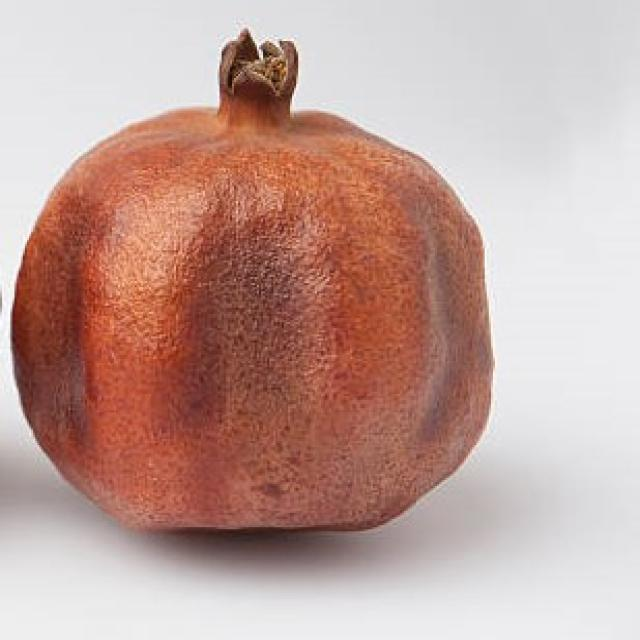overripe: (4, 20, 502, 541)
